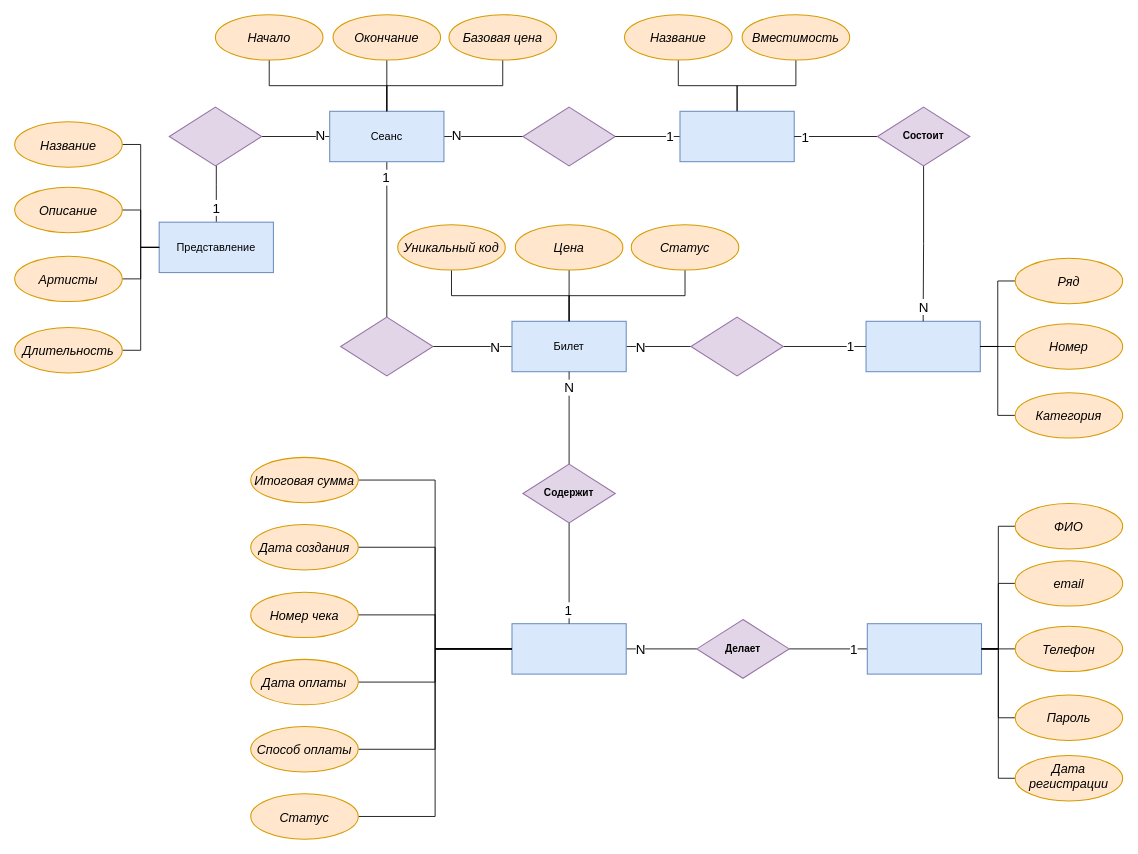
Image size: 1138x854. Some labels were removed from this diagram. Each missing label, with the centre of its shape:
"Заказ" goes at point 568,648.
"Зал" goes at point 736,136.
"Занимает" goes at point 736,346.
"Имеет" goes at point 215,136.
"Место" goes at point 922,346.
"Покупатель" goes at point 924,648.
"Продается" goes at point 386,346.
"Проходит" goes at point 568,136.
